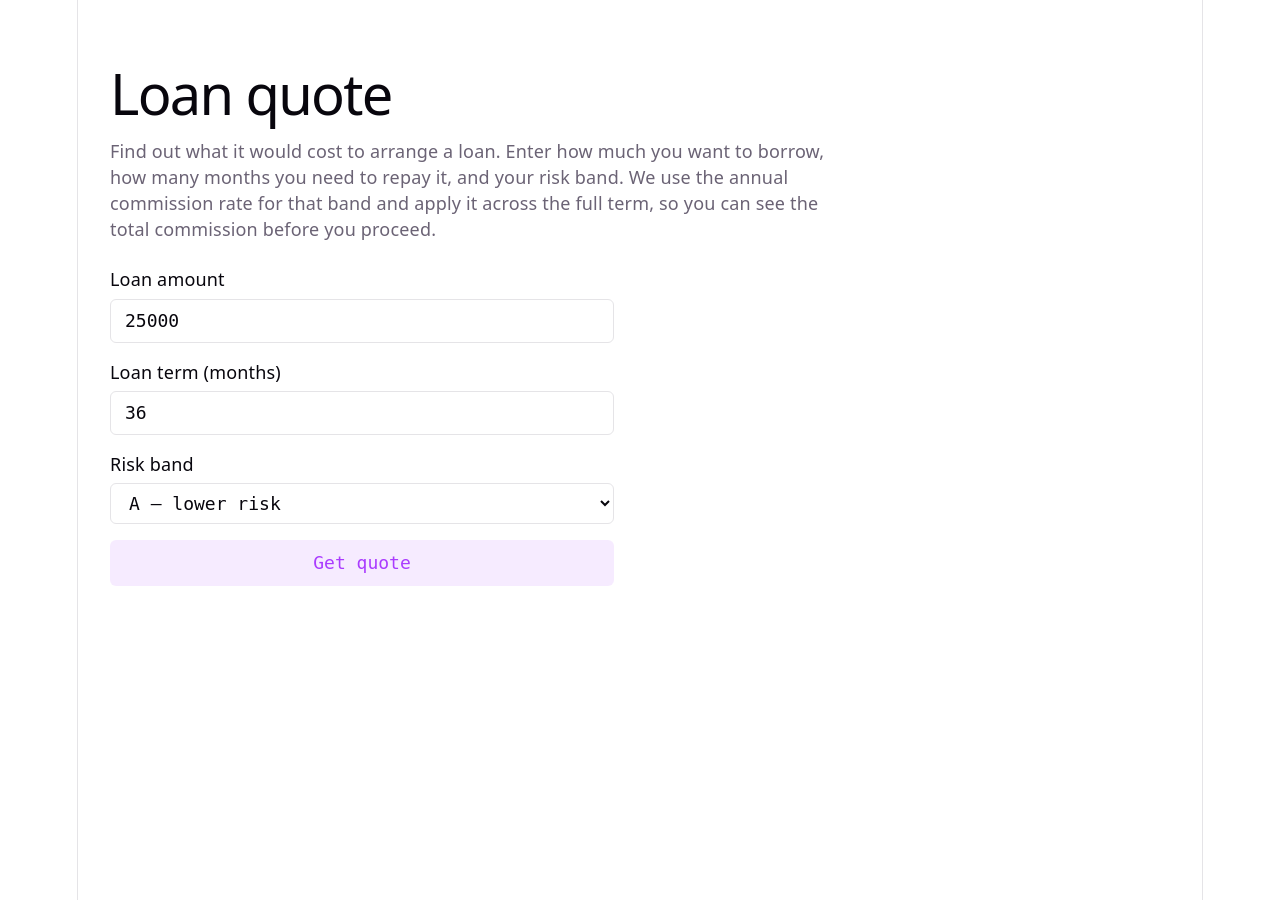
it: Loan quote form › shows Unauthorised when the BFF rejects a missing API key
Step 1. Click the button "Get quote" → (362,563), box [110,540,614,586]
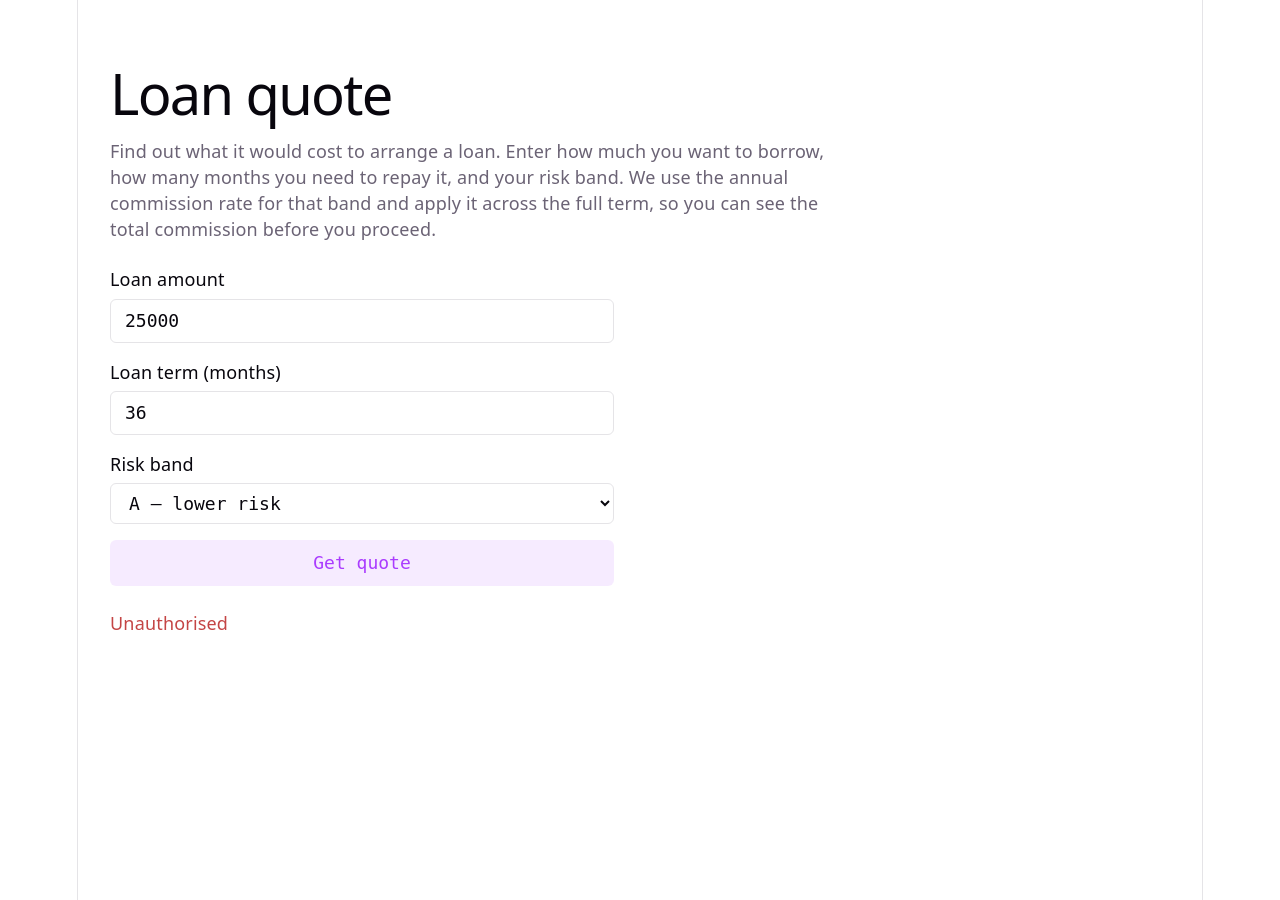
Expected: the message reads "Unauthorised", [110,611,228,635]
